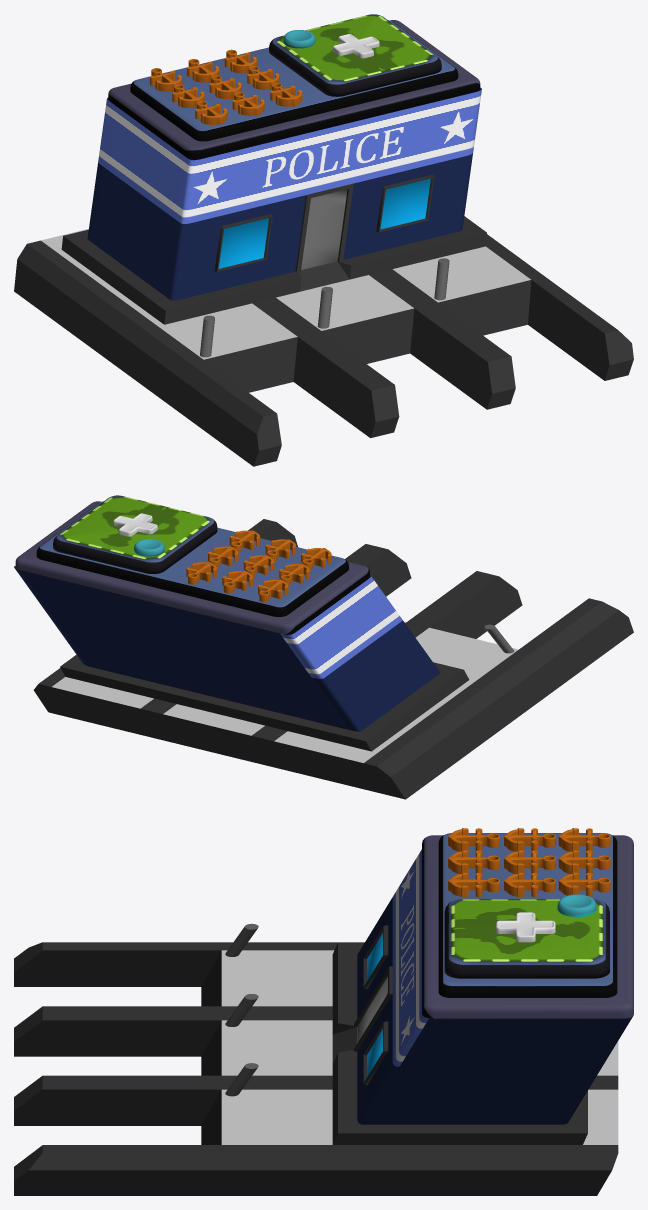
Rendered from PoliceWaterGarage+Hud.fbx.
3 renders of one model, top to bottom at view 1: azimuth 30°, elevation 25°; view 2: azimuth 150°, elevation 25°; view 3: azimuth 270°, elevation 25°, orthographic. The views are drawn at different scales.
Parts seen in each view (by area): view 1: PoliceBuilding, Mesh, ProcessIcon, ManagerIcon, MainPlane, Plus; view 2: PoliceBuilding, Mesh, ProcessIcon, ManagerIcon, MainPlane, Plus, Yakor2, Yakor3, Yakor1, Yakor9, Yakor5, Yakor8 (+4 smaller); view 3: Mesh, PoliceBuilding, ManagerIcon, MainPlane, ProcessIcon, Plus, Yakor9, Yakor6, Yakor8, Yakor1, Yakor2, Yakor7 (+4 smaller).
Boxes of the visible parts, x1,y1,x2,y2 form: PoliceBuilding: [61, 87, 486, 324]; Mesh: [14, 229, 633, 466]; ProcessIcon: [130, 20, 458, 141]; ManagerIcon: [269, 14, 441, 96]; MainPlane: [108, 20, 480, 159]; Plus: [332, 34, 379, 58]; PoliceBuilding: [14, 566, 469, 751]; Mesh: [33, 519, 633, 799]; ProcessIcon: [36, 501, 348, 616]; ManagerIcon: [53, 495, 217, 573]; MainPlane: [15, 501, 369, 634]; Plus: [113, 513, 157, 536]; Yakor2: [222, 571, 253, 593]; Yakor3: [186, 562, 217, 584]; Yakor1: [258, 579, 288, 602]; Yakor9: [229, 530, 260, 552]; Yakor5: [243, 555, 274, 577]; Yakor8: [265, 539, 296, 561]; Mesh: [14, 923, 618, 1195]; PoliceBuilding: [332, 849, 633, 1144]; ManagerIcon: [444, 899, 609, 978]; MainPlane: [422, 835, 633, 1018]; ProcessIcon: [438, 833, 617, 997]; Plus: [496, 912, 555, 942]; Yakor9: [448, 872, 499, 897]; Yakor6: [504, 872, 555, 897]; Yakor8: [448, 850, 499, 873]; Yakor1: [558, 828, 610, 851]; Yakor2: [558, 850, 610, 873]; Yakor7: [448, 828, 499, 851].
Bounding box in the file's own units: 682 × 755 × 318.
